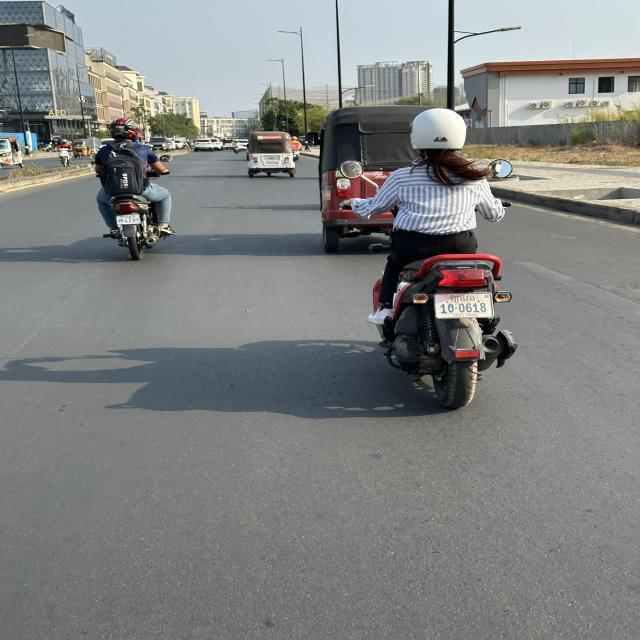Prey_Veng: (449, 293, 476, 302)
